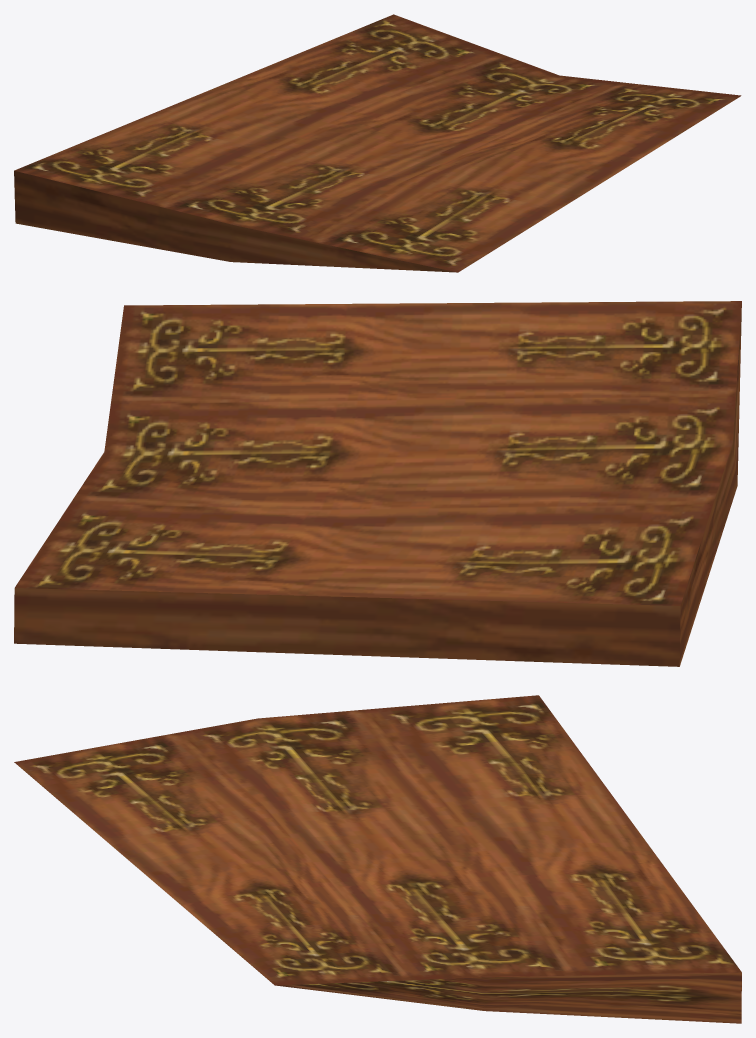
The model's file is EKH_THRONE_PS_TH_THRONE_STEP_02.fbx.
3 views of the same model, one above another, from view 1: azimuth 30°, elevation 25°; view 2: azimuth 150°, elevation 25°; view 3: azimuth 270°, elevation 25° (orthographic). The views are drawn at different scales.
Parts seen in each view (by area): view 1: EKH_THRONE_PS_TH_THRONE_STEP_02; view 2: EKH_THRONE_PS_TH_THRONE_STEP_02; view 3: EKH_THRONE_PS_TH_THRONE_STEP_02.
Boxes of the visible parts, x1,y1,x2,y2 form: EKH_THRONE_PS_TH_THRONE_STEP_02: (14, 14, 741, 272); EKH_THRONE_PS_TH_THRONE_STEP_02: (14, 301, 741, 666); EKH_THRONE_PS_TH_THRONE_STEP_02: (14, 695, 741, 1023).
Size of the model in its own units: 14314 by 2510 by 14169.
1 material, 1 textured.
